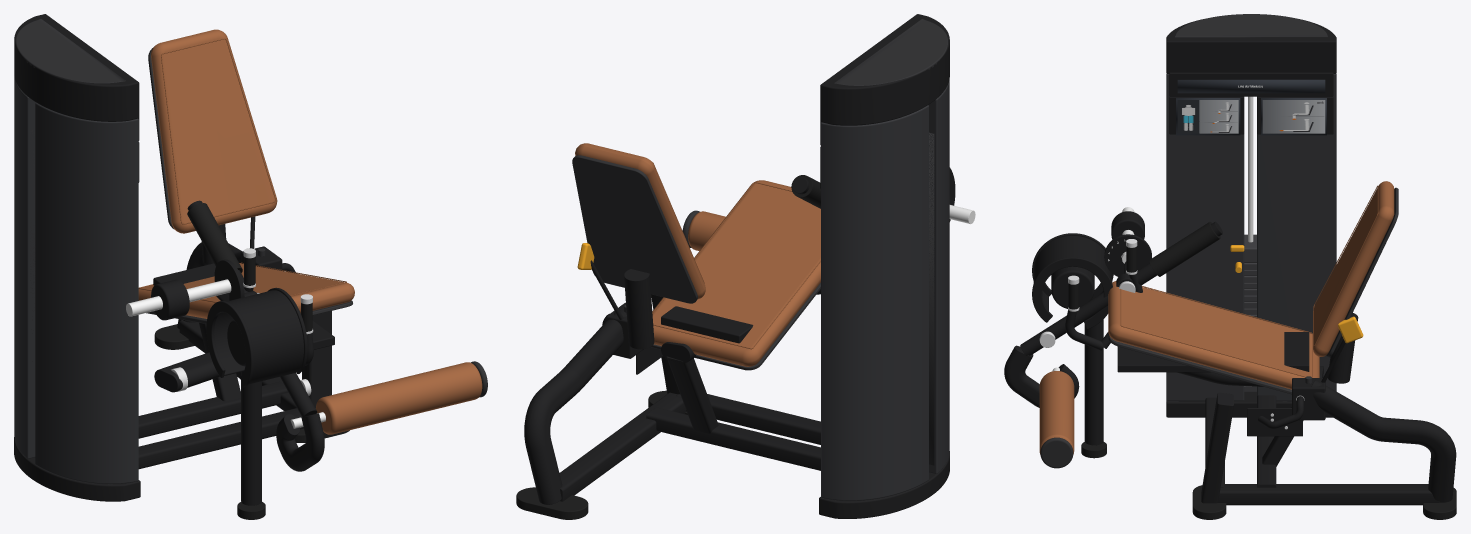
The model's file is precor-resolute-series-leg-extension_v017.glb.
The picture shows the model from 3 angles, left to right: view 1: azimuth 30°, elevation 25°; view 2: azimuth 150°, elevation 25°; view 3: azimuth 270°, elevation 25°; orthographic projection. The views are drawn at different scales.
Parts seen in each view (by area): view 1: precor-resolute-series-leg-extension_tower_shroud, precor-resolute-series-leg-extension_pad.001, precor-resolute-series-leg-extension_frame.005, precor-resolute-series-leg-extension_tower_frame, precor-resolute-series-leg-extension_frame, precor-resolute-series-leg-extension_pad, precor-resolute-series-leg-extension_frame.003, precor-resolute-series-leg-extension_tower_plastic, precor-resolute-series-leg-extension_rubber, precor-resolute-series-leg-extension_frame.002, precor-resolute-series-leg-extension_chrome, precor-resolute-series-leg-extension_frame.004 (+5 smaller); view 2: precor-resolute-series-leg-extension_tower_shroud, precor-resolute-series-leg-extension_pad.001, precor-resolute-series-leg-extension_frame.005, precor-resolute-series-leg-extension_plastic.001, precor-resolute-series-leg-extension_tower_frame, precor-resolute-series-leg-extension_tower_plastic, precor-resolute-series-leg-extension_frame.003, precor-resolute-series-leg-extension_tower_plastic.001, precor-resolute-series-leg-extension_frame.004, precor-resolute-series-leg-extension_rubber.002, precor-resolute-series-leg-extension_pad, precor-resolute-series-leg-extension_seam (+1 smaller); view 3: precor-resolute-series-leg-extension_tower_shroud, precor-resolute-series-leg-extension_frame.005, precor-resolute-series-leg-extension_pad.001, precor-resolute-series-leg-extension_tower_frame, precor-resolute-series-leg-extension_frame.003, precor-resolute-series-leg-extension_frame, precor-resolute-series-leg-extension_tower_frame.001, precor-resolute-series-leg-extension_tower_panel, precor-resolute-series-leg-extension_tower_plastic, precor-resolute-series-leg-extension_pad, precor-resolute-series-leg-extension_frame.004, precor-resolute-series-leg-extension_tower_decal.001 (+12 smaller).
Boxes of the visible parts, x1=… form: precor-resolute-series-leg-extension_tower_shroud: x1=14, y1=76, x2=138, y2=484; precor-resolute-series-leg-extension_pad.001: x1=138, y1=29, x2=354, y2=318; precor-resolute-series-leg-extension_frame.005: x1=138, y1=242, x2=331, y2=471; precor-resolute-series-leg-extension_tower_frame: x1=14, y1=14, x2=140, y2=501; precor-resolute-series-leg-extension_frame: x1=206, y1=287, x2=307, y2=387; precor-resolute-series-leg-extension_pad: x1=315, y1=362, x2=482, y2=434; precor-resolute-series-leg-extension_frame.003: x1=187, y1=200, x2=317, y2=505; precor-resolute-series-leg-extension_tower_plastic: x1=16, y1=19, x2=125, y2=83; precor-resolute-series-leg-extension_rubber: x1=187, y1=203, x2=312, y2=331; precor-resolute-series-leg-extension_frame.002: x1=151, y1=246, x2=282, y2=320; precor-resolute-series-leg-extension_chrome: x1=126, y1=279, x2=325, y2=428; precor-resolute-series-leg-extension_frame.004: x1=153, y1=263, x2=334, y2=349; precor-resolute-series-leg-extension_tower_shroud: x1=821, y1=79, x2=949, y2=500; precor-resolute-series-leg-extension_pad.001: x1=575, y1=143, x2=820, y2=366; precor-resolute-series-leg-extension_frame.005: x1=524, y1=289, x2=820, y2=504; precor-resolute-series-leg-extension_plastic.001: x1=572, y1=155, x2=820, y2=370; precor-resolute-series-leg-extension_tower_frame: x1=819, y1=14, x2=949, y2=518; precor-resolute-series-leg-extension_tower_plastic: x1=834, y1=19, x2=947, y2=85; precor-resolute-series-leg-extension_frame.003: x1=590, y1=177, x2=809, y2=349; precor-resolute-series-leg-extension_tower_plastic.001: x1=929, y1=132, x2=934, y2=465; precor-resolute-series-leg-extension_frame.004: x1=661, y1=306, x2=753, y2=343; precor-resolute-series-leg-extension_rubber.002: x1=516, y1=390, x2=687, y2=519; precor-resolute-series-leg-extension_pad: x1=688, y1=211, x2=725, y2=250; precor-resolute-series-leg-extension_seam: x1=652, y1=162, x2=820, y2=349; precor-resolute-series-leg-extension_tower_shroud: x1=1166, y1=73, x2=1336, y2=401; precor-resolute-series-leg-extension_frame.005: x1=1004, y1=261, x2=1456, y2=505; precor-resolute-series-leg-extension_pad.001: x1=1108, y1=181, x2=1394, y2=389; precor-resolute-series-leg-extension_tower_frame: x1=1166, y1=19, x2=1336, y2=417; precor-resolute-series-leg-extension_frame.003: x1=1020, y1=221, x2=1358, y2=445; precor-resolute-series-leg-extension_frame: x1=1032, y1=233, x2=1113, y2=329; precor-resolute-series-leg-extension_tower_frame.001: x1=1169, y1=72, x2=1333, y2=134; precor-resolute-series-leg-extension_tower_panel: x1=1176, y1=79, x2=1326, y2=135; precor-resolute-series-leg-extension_tower_plastic: x1=1175, y1=14, x2=1327, y2=37; precor-resolute-series-leg-extension_pad: x1=1039, y1=371, x2=1074, y2=454; precor-resolute-series-leg-extension_frame.004: x1=1116, y1=273, x2=1309, y2=372; precor-resolute-series-leg-extension_tower_decal.001: x1=1262, y1=100, x2=1325, y2=133.
Bounding box in the file's own units: 1.27 × 1.5 × 1.61.
Materials: 19 (2 with a texture image).
